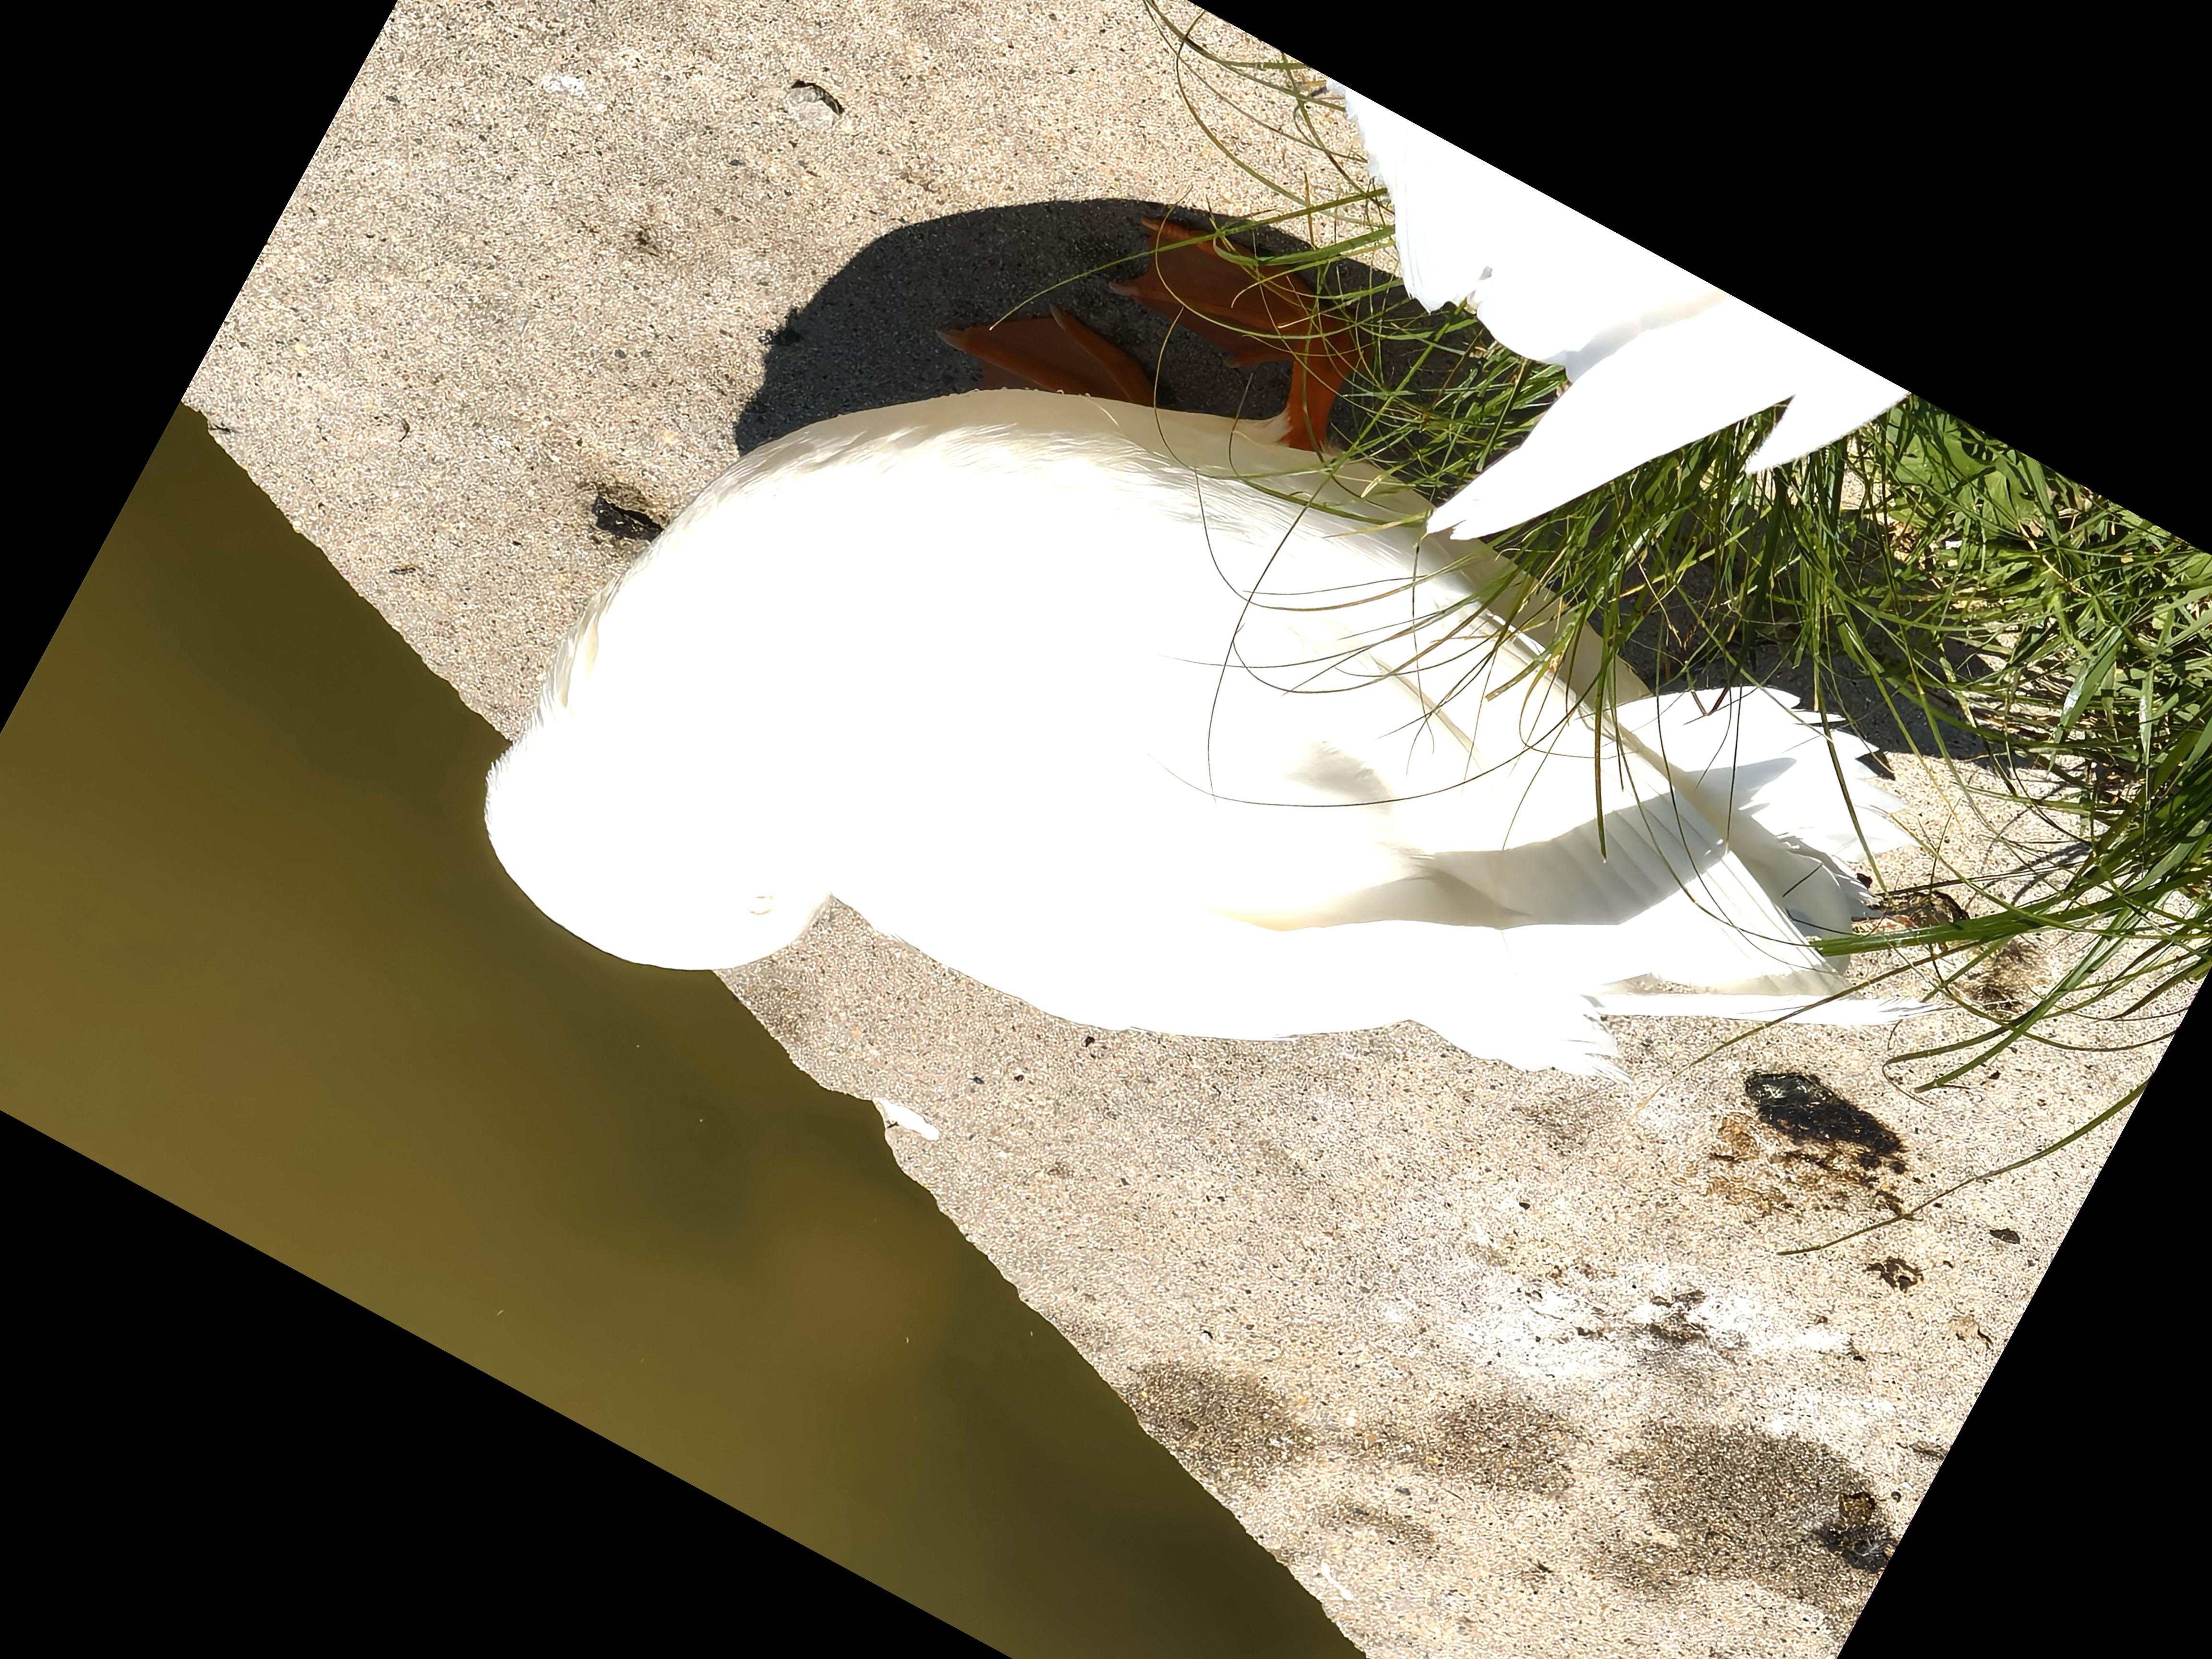duck: (385, 101, 2090, 1581)
